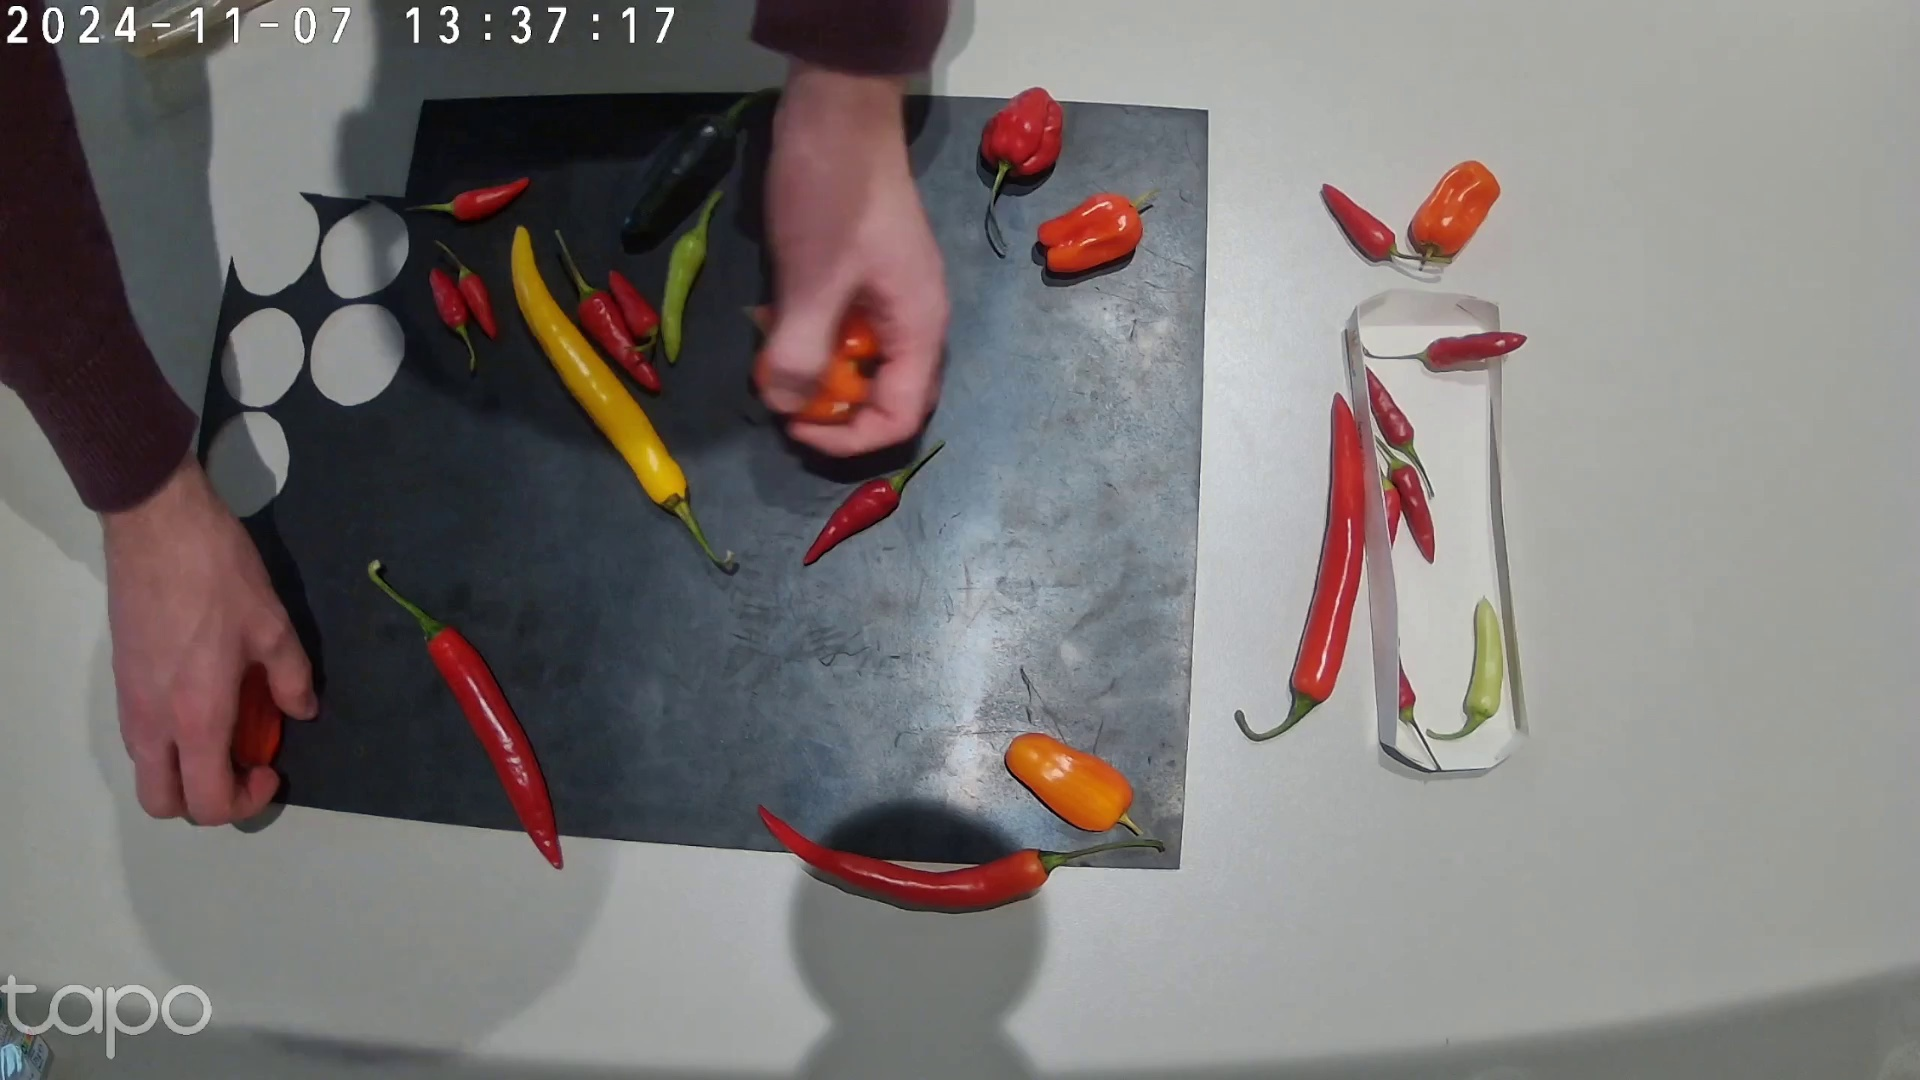Habanero_Pepper_Red: (981, 87, 1063, 247)
Jalapeno_Green: (621, 87, 782, 245)
Leon_Orange: (1005, 733, 1143, 836), (1038, 187, 1162, 273), (1411, 161, 1501, 260)
Rawit_Green: (1425, 593, 1503, 741), (661, 189, 724, 364)
Rawit_Red: (802, 439, 945, 566), (555, 228, 661, 393), (1323, 183, 1453, 265), (1365, 365, 1435, 497), (1375, 435, 1435, 562), (435, 240, 498, 340), (405, 177, 531, 222), (1362, 331, 1527, 365), (1399, 657, 1443, 771), (429, 266, 476, 371), (609, 269, 659, 352), (1379, 464, 1400, 546)
Spanish_Pepper_Red: (367, 559, 563, 872), (1233, 393, 1365, 742), (758, 803, 1164, 909)
Spanish_Pepper_Yellow: (510, 225, 735, 566)
